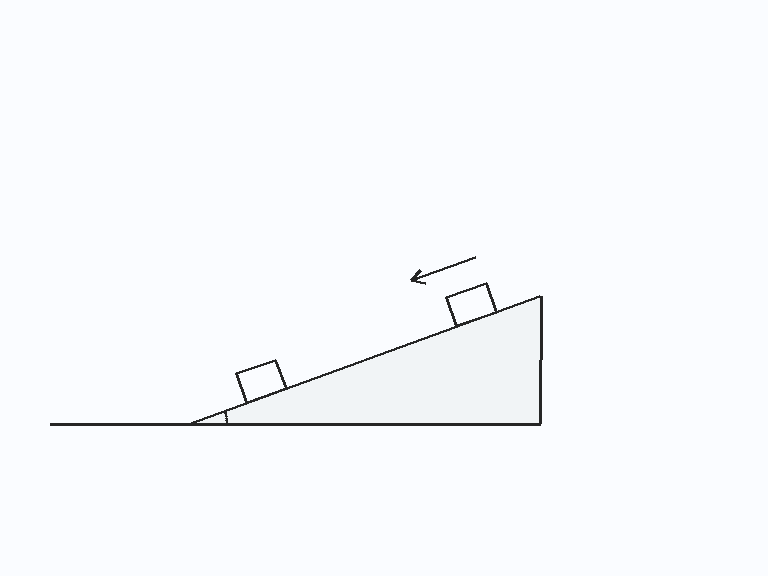block: (444, 281, 498, 328), (234, 357, 288, 404)
ramp: (185, 294, 541, 426)
